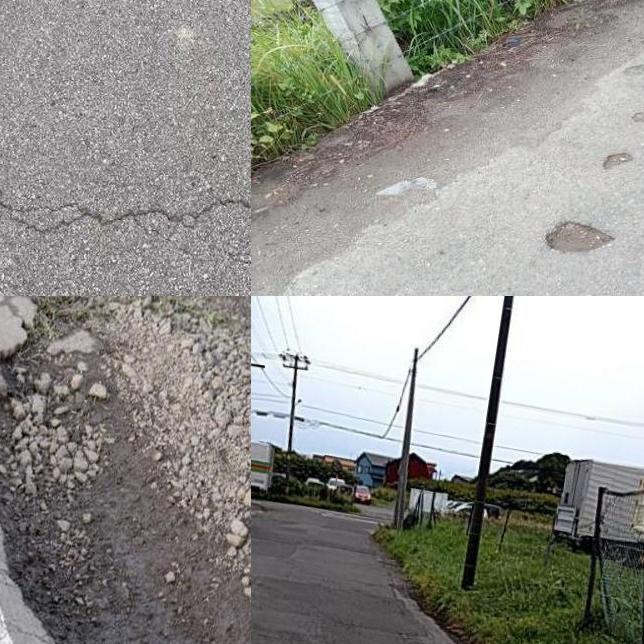Lubang: (549, 217, 609, 254)
Melintang: (0, 176, 251, 246)
Pinggir: (0, 296, 251, 644)
